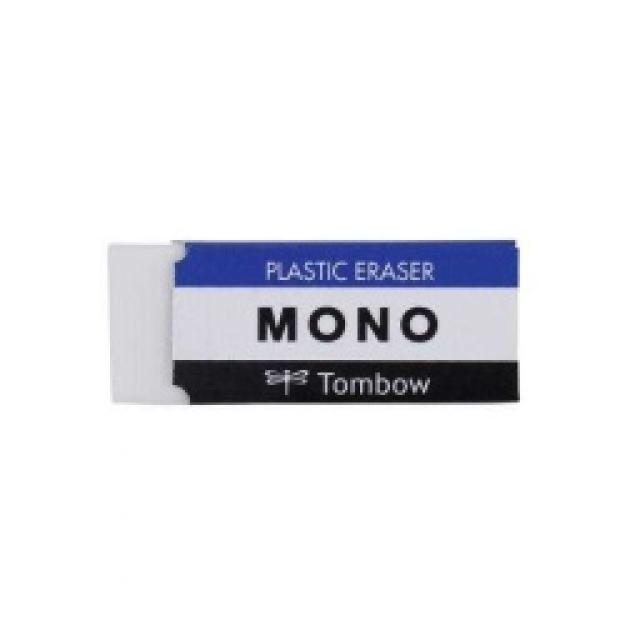Silgi: (101, 239, 522, 408)
